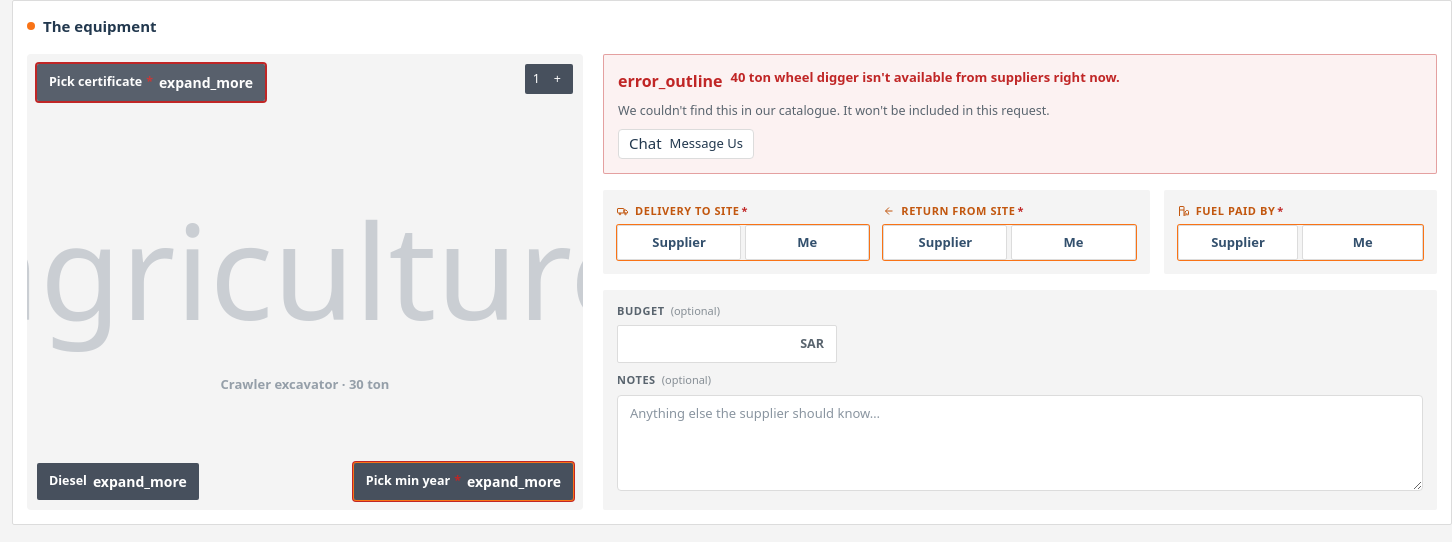
it: an item the marketplace cannot supply (MREQ-AC-24) › shows the red panel and hands off to support without dropping the row
Check: the text "isn't available from suppliers right now" is shown, box [730,68,1120,86]
Click the button "chat Message us": (686, 144) [618,129,754,159]
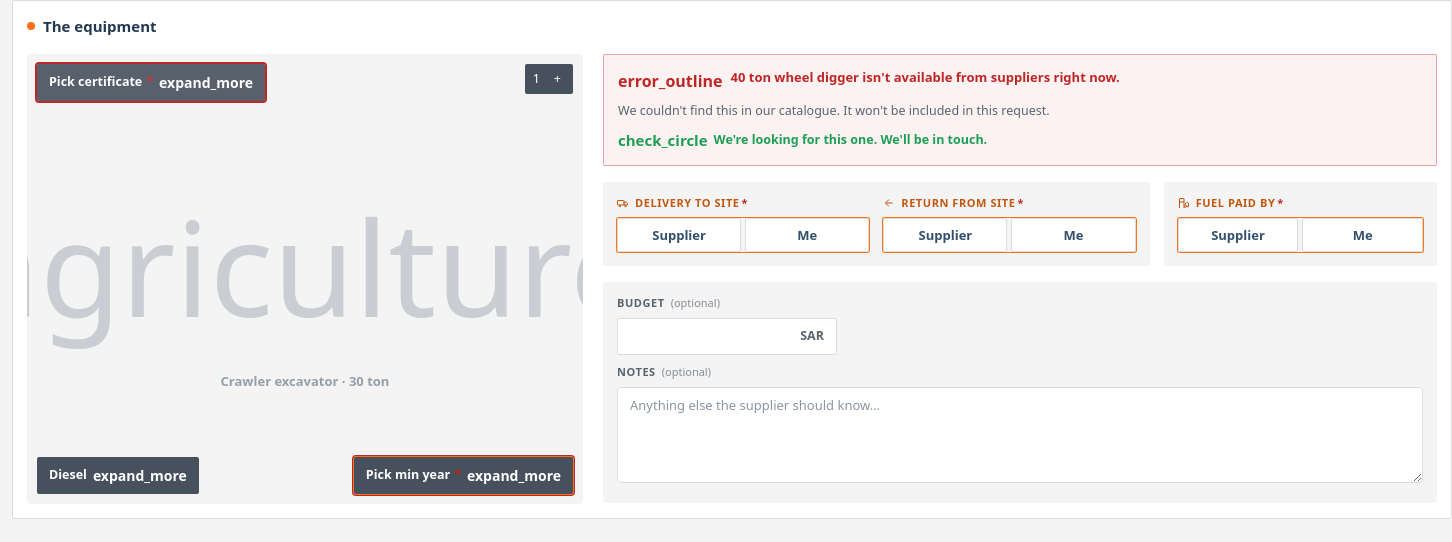
Check: the text "check_circle We're looking for this one. We'll be in touch." is shown, box [618,129,987,151]
